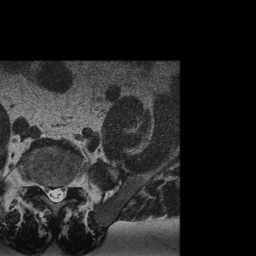CCS_stenosis: (52, 180, 59, 208)
LFS_stenosis: (65, 173, 72, 198)
LLS_normal: (58, 177, 66, 207)
RFS_severe_stenosis: (37, 174, 45, 198)
RLS_normal: (45, 178, 52, 205)
